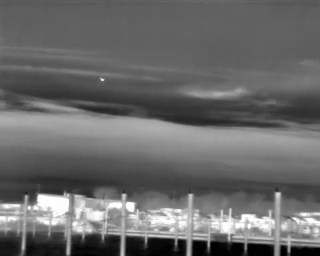BIRD: (98, 75, 107, 85)
